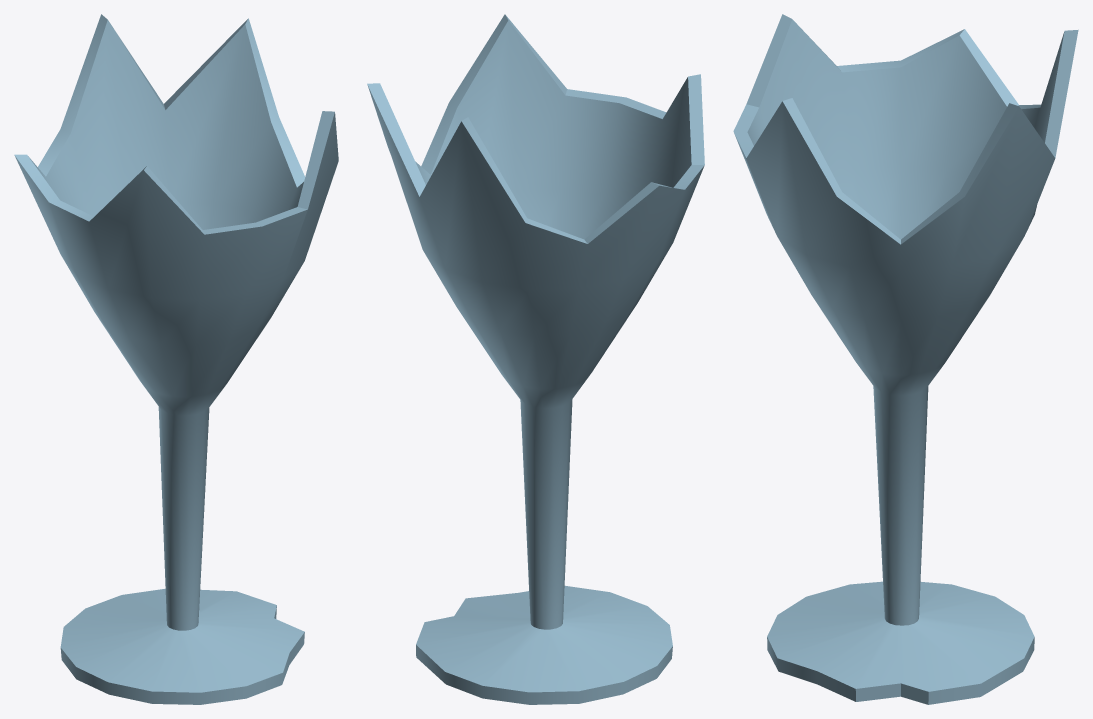
Rendered from Vaso_05.fbx.
3 renders of one model, left to right at view 1: azimuth 30°, elevation 25°; view 2: azimuth 150°, elevation 25°; view 3: azimuth 270°, elevation 25°, orthographic. The views are drawn at different scales.
Visible parts, largest first — view 1: Vaso_05; view 2: Vaso_05; view 3: Vaso_05.
Boxes of the visible parts, x1,y1,x2,y2 form: Vaso_05: [14, 14, 338, 704]; Vaso_05: [367, 14, 704, 704]; Vaso_05: [733, 14, 1078, 704].
Bounding box in the file's own units: 23.85 × 49.77 × 25.09.
